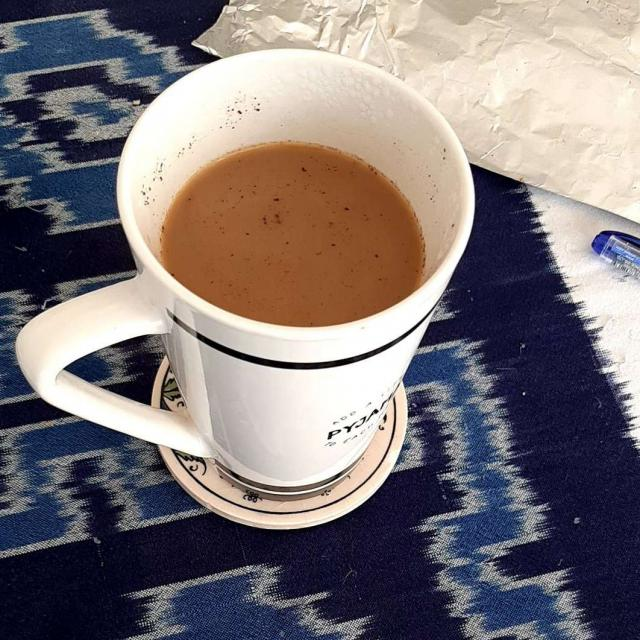white-coffee-with-caffeine: (164, 143, 425, 322)
